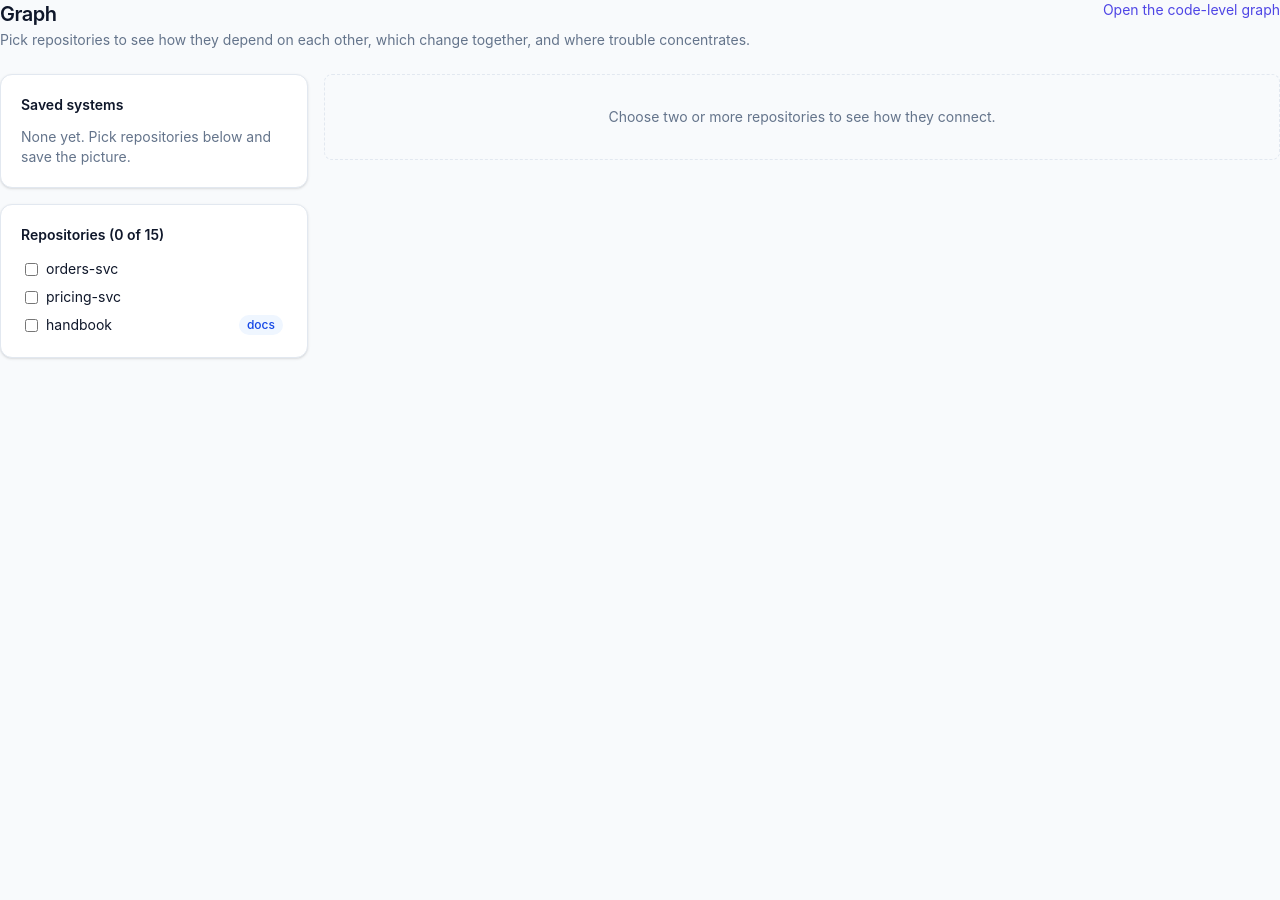
Test case: Graph: systems › says plainly that nothing changed rather than showing an empty box
What coordinates should you click on to do the following:
click the checkbox labelled "orders-svc"
I would click on:
 (32, 269)
Its box is [25, 262, 38, 276].
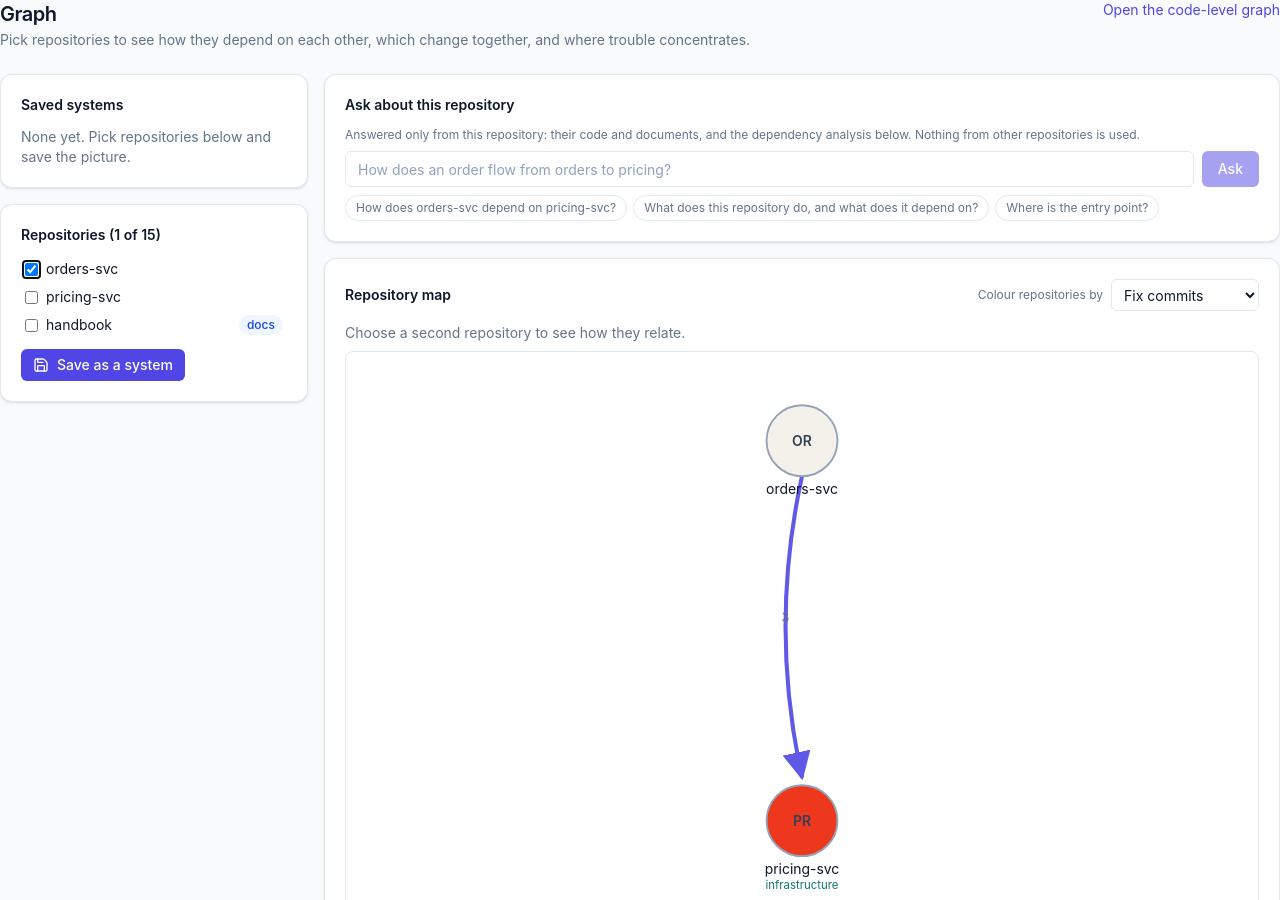
What coordinates should you click on to do the following:
click the checkbox labelled "pricing-svc"
I would click on:
 (32, 297)
Its box is [25, 290, 38, 304].
(page scrolled)
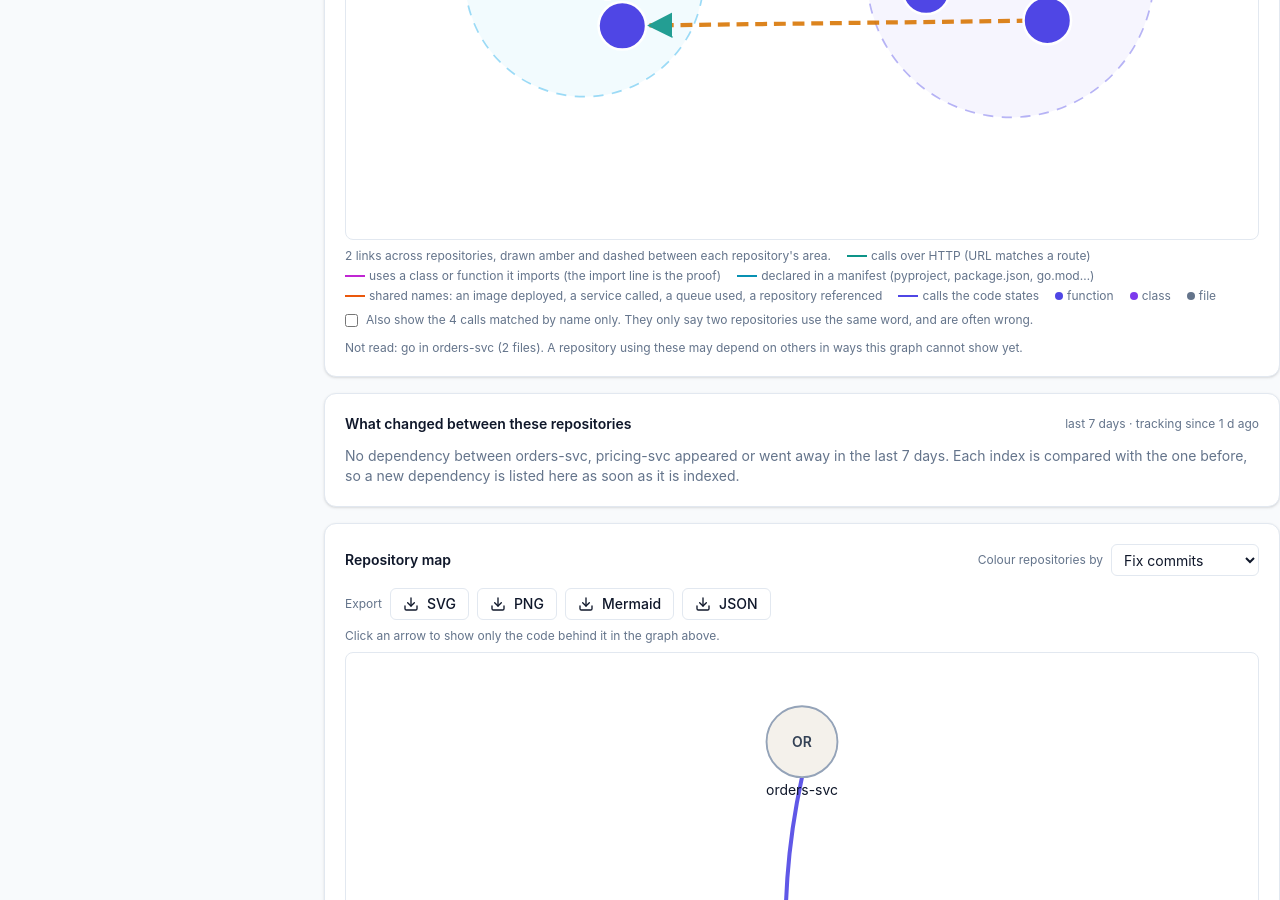
Check: the element labelled "What changed" shows "appeared or went away in the last 7 days", box [324, 393, 1279, 507]
